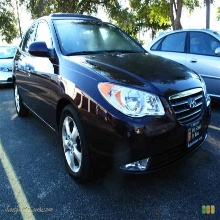no damage: (13, 13, 213, 180), (147, 27, 220, 101), (1, 40, 16, 86)
